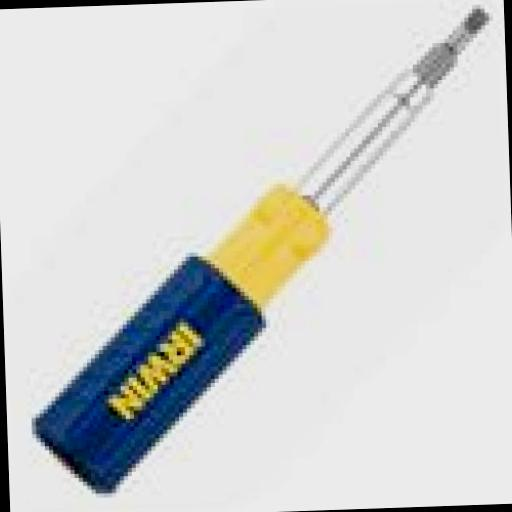screwdriver: (18, 4, 504, 498)
